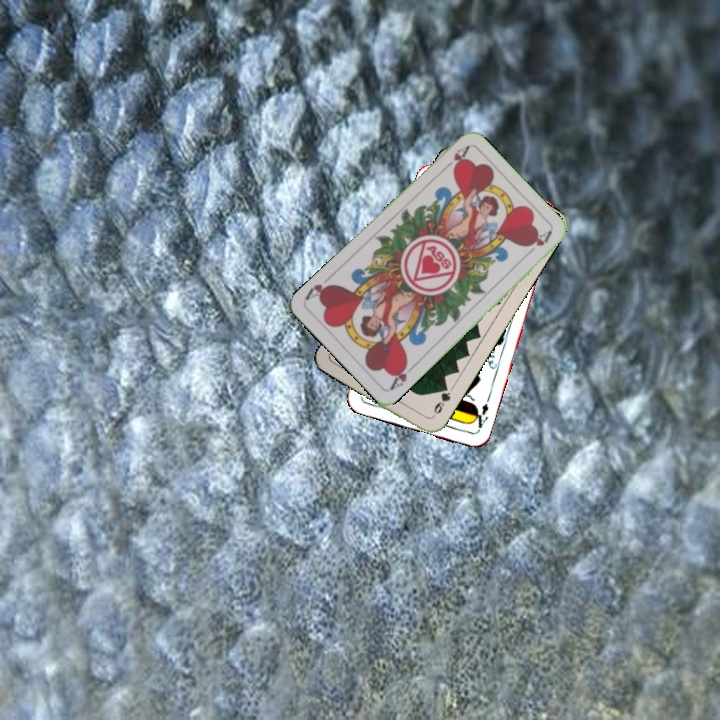EA: (468, 399, 491, 434)
G9: (428, 381, 453, 420)
HA: (386, 358, 418, 393), (438, 142, 472, 174)
